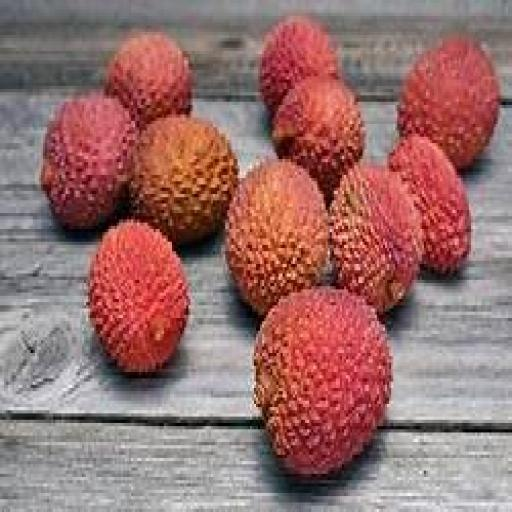lychee: (254, 287, 391, 477), (226, 160, 327, 314), (89, 220, 188, 372), (130, 115, 237, 244), (330, 166, 421, 311), (398, 39, 499, 168), (41, 93, 137, 228), (273, 77, 364, 200), (390, 137, 471, 273), (105, 32, 192, 127), (261, 16, 337, 114)
